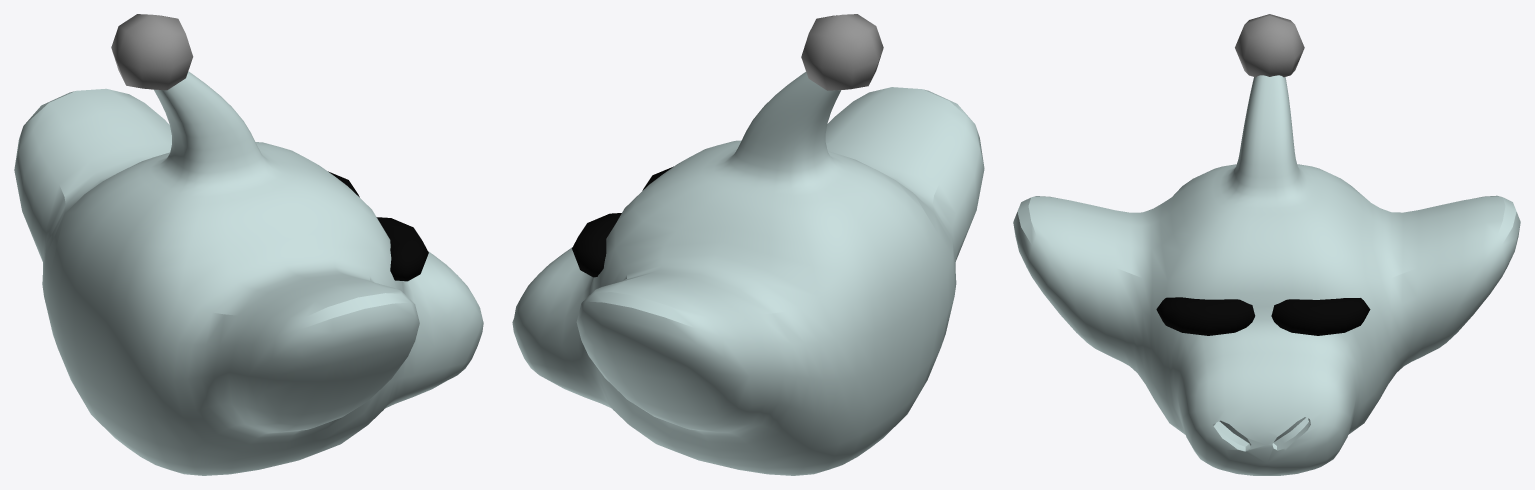
Rendered from Lighting Head.fbx.
3 views of the same model, side by side, from view 1: azimuth 30°, elevation 25°; view 2: azimuth 150°, elevation 25°; view 3: azimuth 270°, elevation 25° (orthographic). The views are drawn at different scales.
Visible parts, largest first — view 1: Cube.038; view 2: Cube.038; view 3: Cube.038.
Part boxes in pixels (x1,y1,x2,y2): Cube.038: (14, 14, 483, 475); Cube.038: (512, 14, 984, 475); Cube.038: (1013, 14, 1520, 475).
Bounding box in the file's own units: 249 × 289 × 350.
